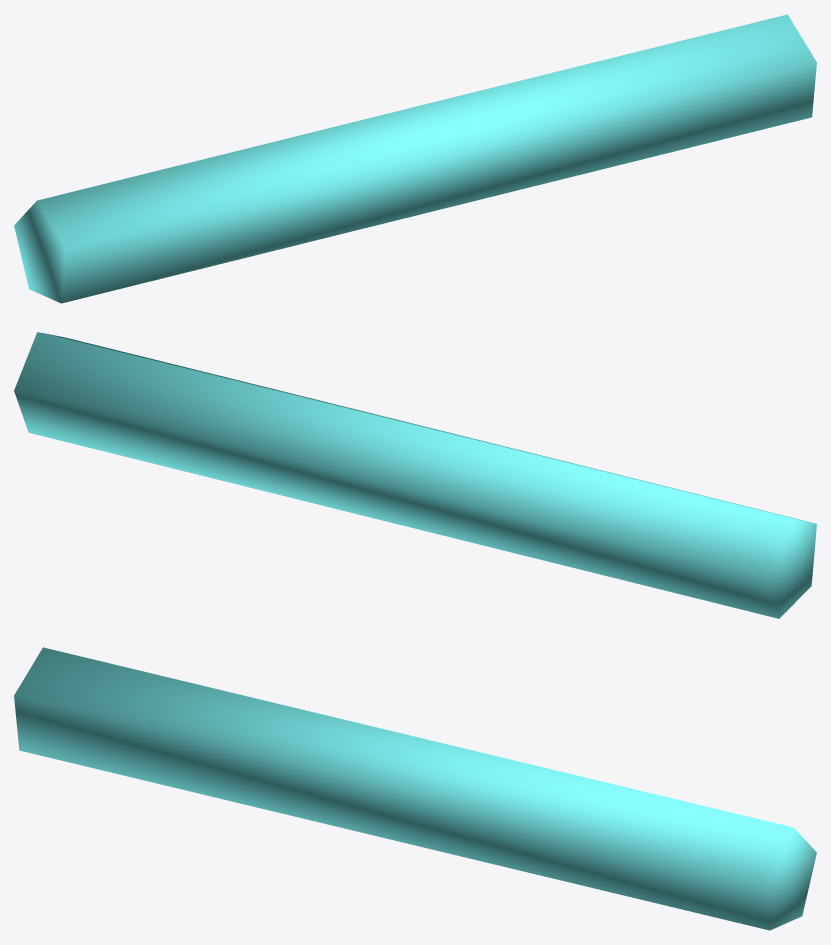
The model's file is disparo2.fbx.
3 renders of one model, top to bottom at view 1: azimuth 30°, elevation 25°; view 2: azimuth 150°, elevation 25°; view 3: azimuth 330°, elevation 25°, orthographic.
Parts seen in each view (by area): view 1: Cylinder; view 2: Cylinder; view 3: Cylinder.
Boxes of the visible parts, left/top/right/bottom form: Cylinder: left=14, top=14, right=816, bottom=303; Cylinder: left=14, top=332, right=816, bottom=618; Cylinder: left=14, top=647, right=816, bottom=930.
Bounding box in the file's own units: 16.01 × 1.99 × 1.93.
